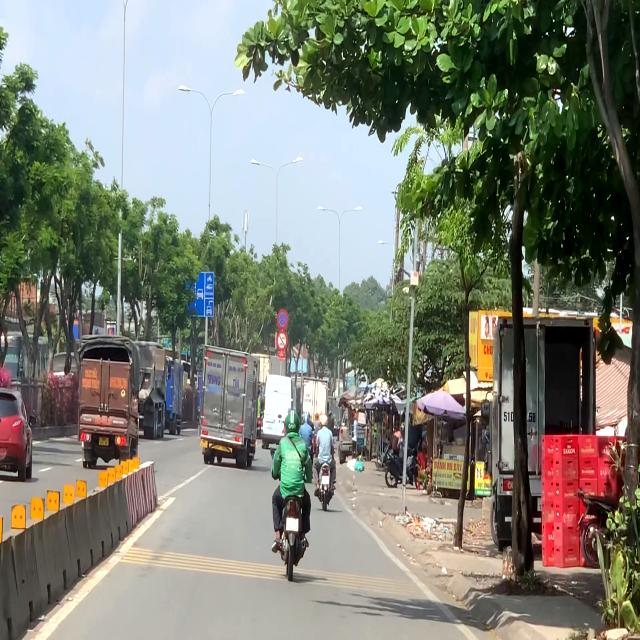P.130: (277, 309, 288, 330)
